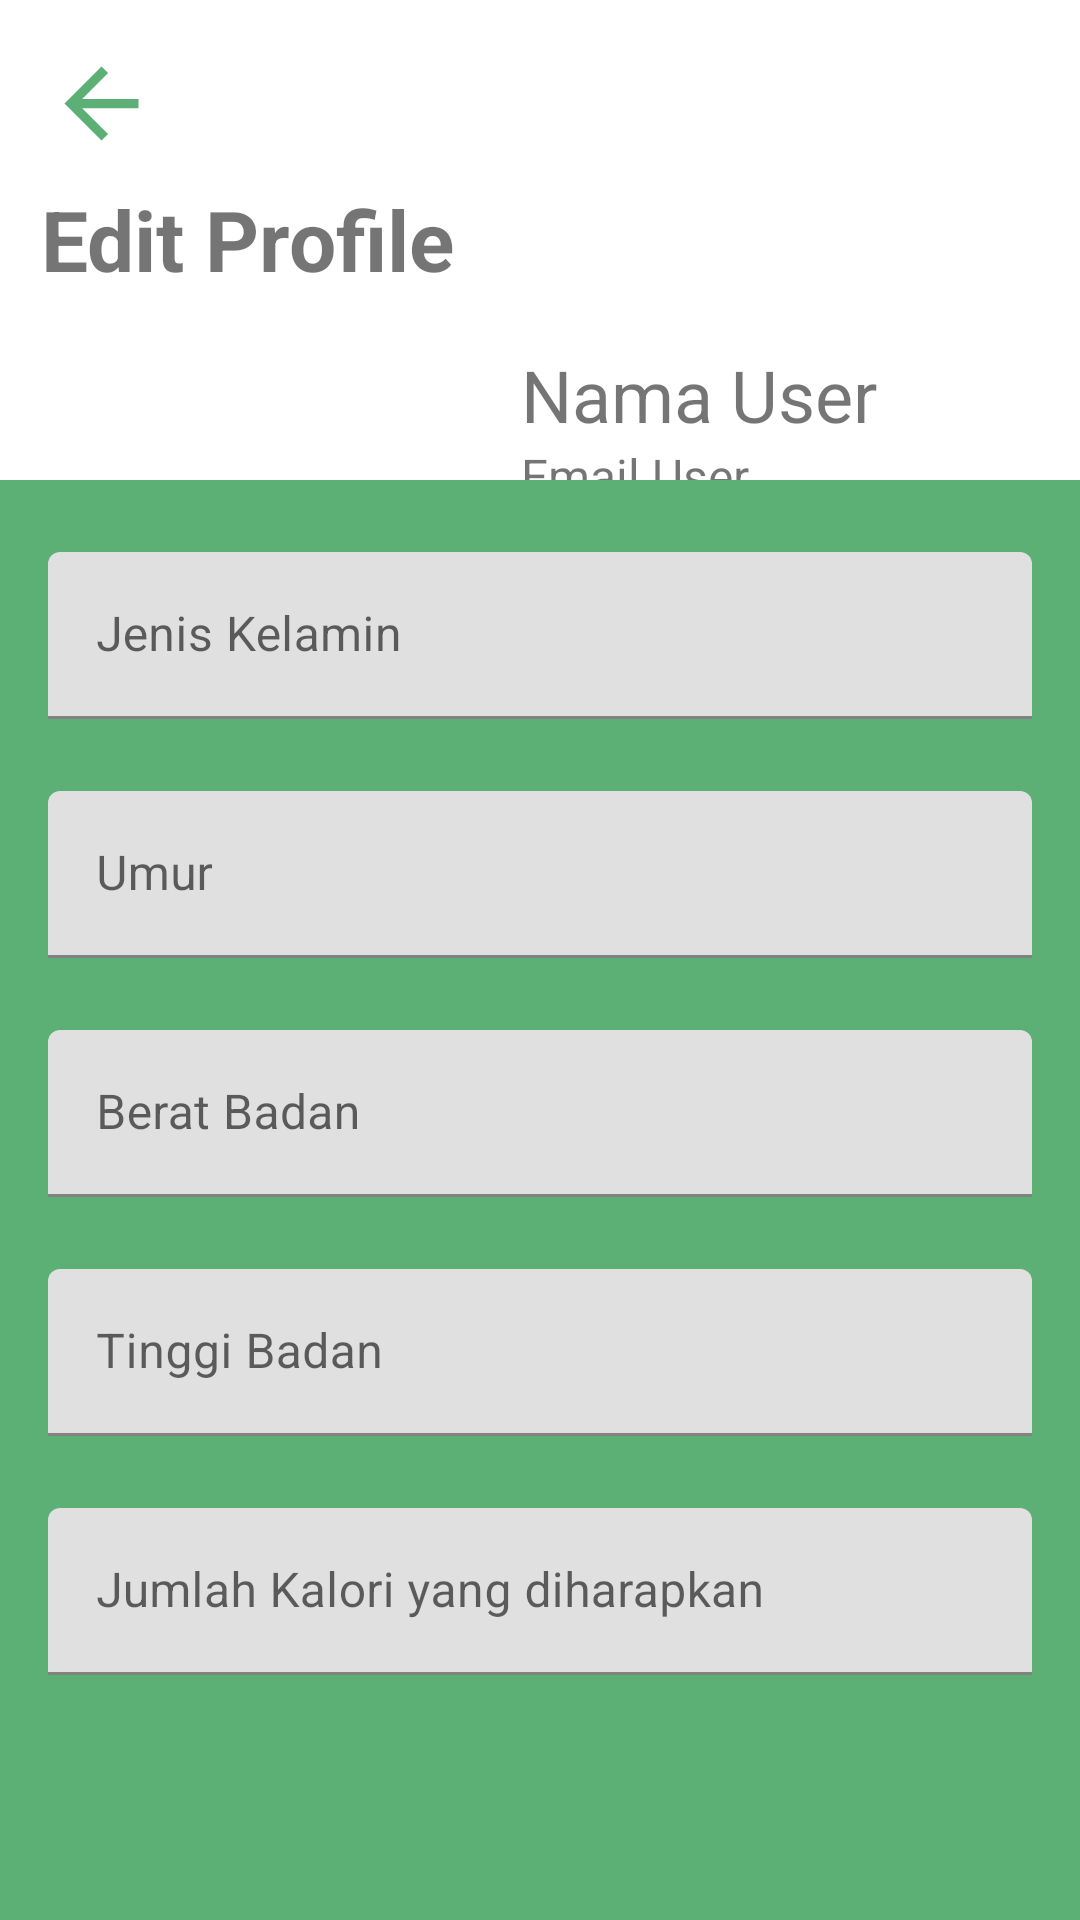

Locate icon controls on the screen. Image size 1080×1920, boxes as (x1, y1, x2, y2).
arrow back: (64, 66, 139, 141)
